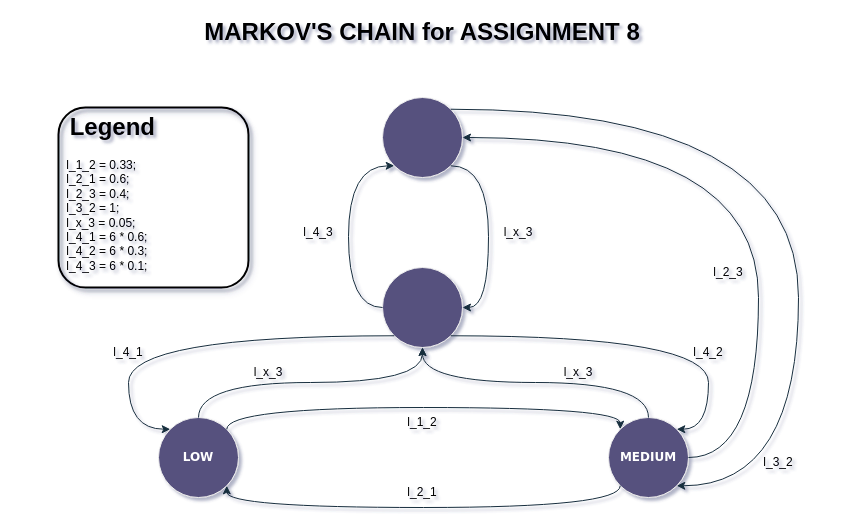
This 850x531 diagram has some shape labels left out. Here are the shapes that lost their labels. From the top down, the centre of each, then its label:
At [422,137]: "HIGH".
At [422,307]: "DOWN".
